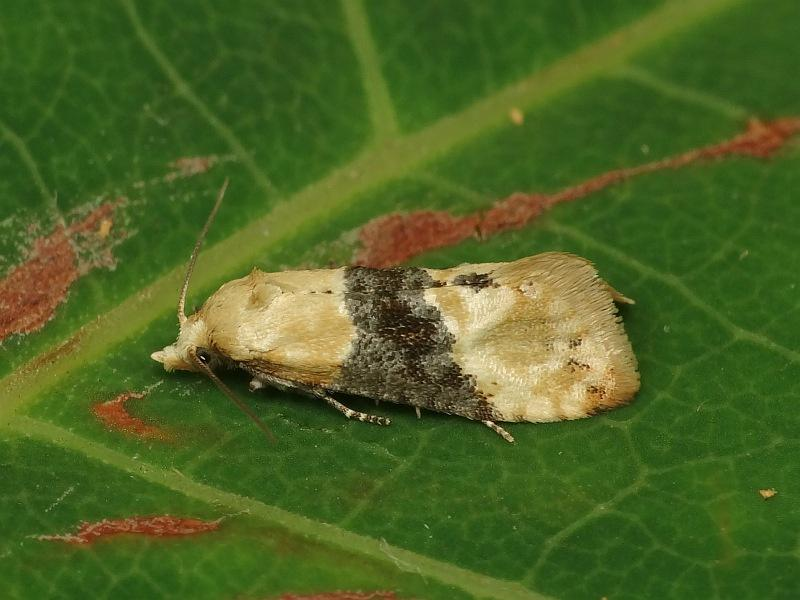Eupoecilia Ambiguella: (149, 175, 645, 447)
